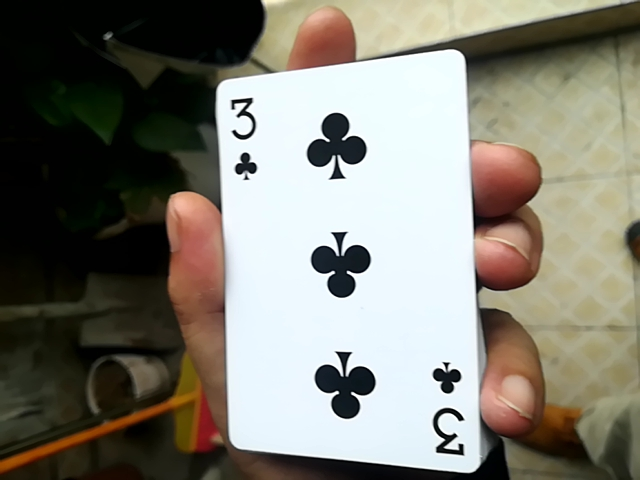mh 3: (204, 47, 484, 474)
